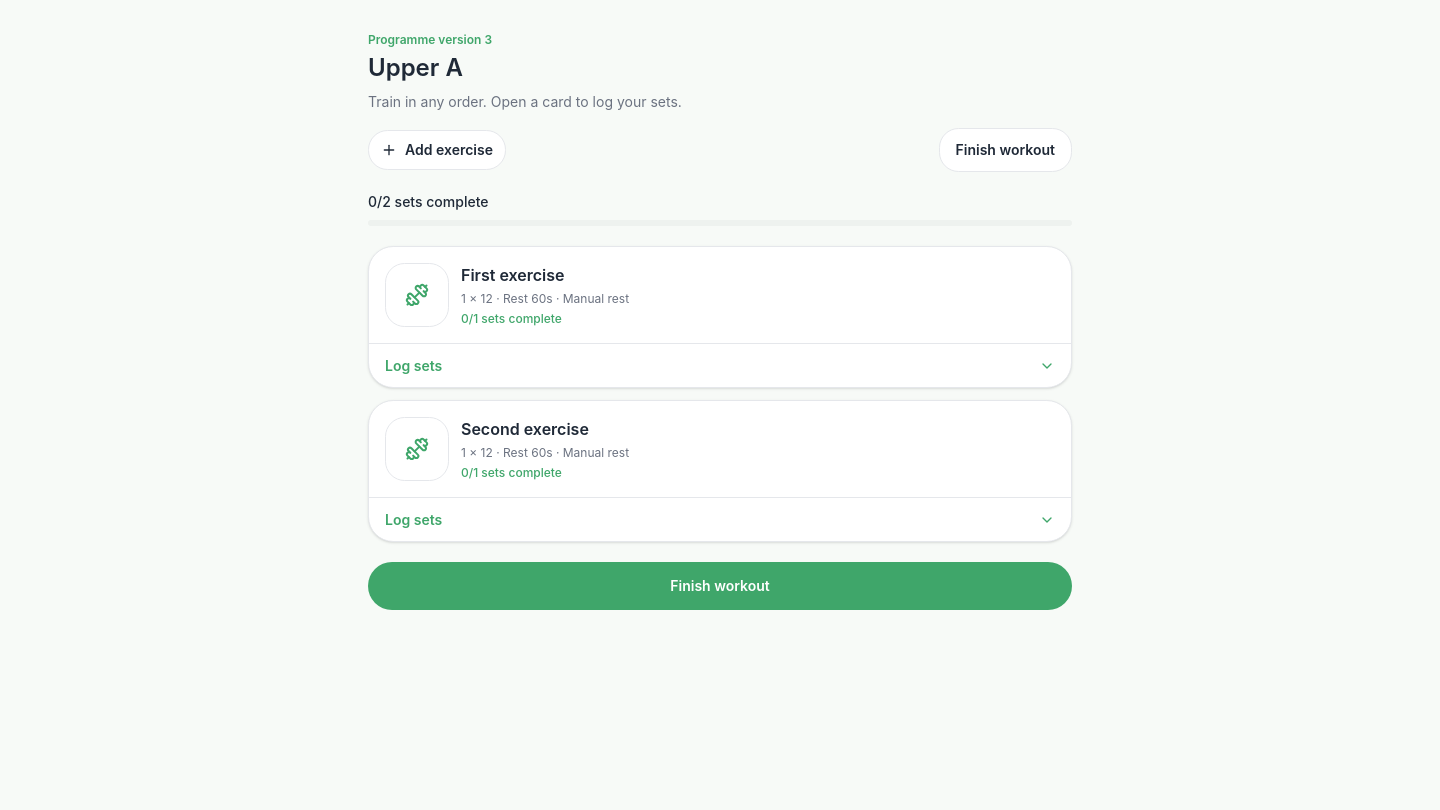
single-page workout › adds an extra exercise without leaving the list and keeps finish available
What coordinates should you click on to do the following:
click the button "Add exercise"
I would click on:
 (437, 150)
Its box is x1=368 y1=130 x2=506 y2=170.
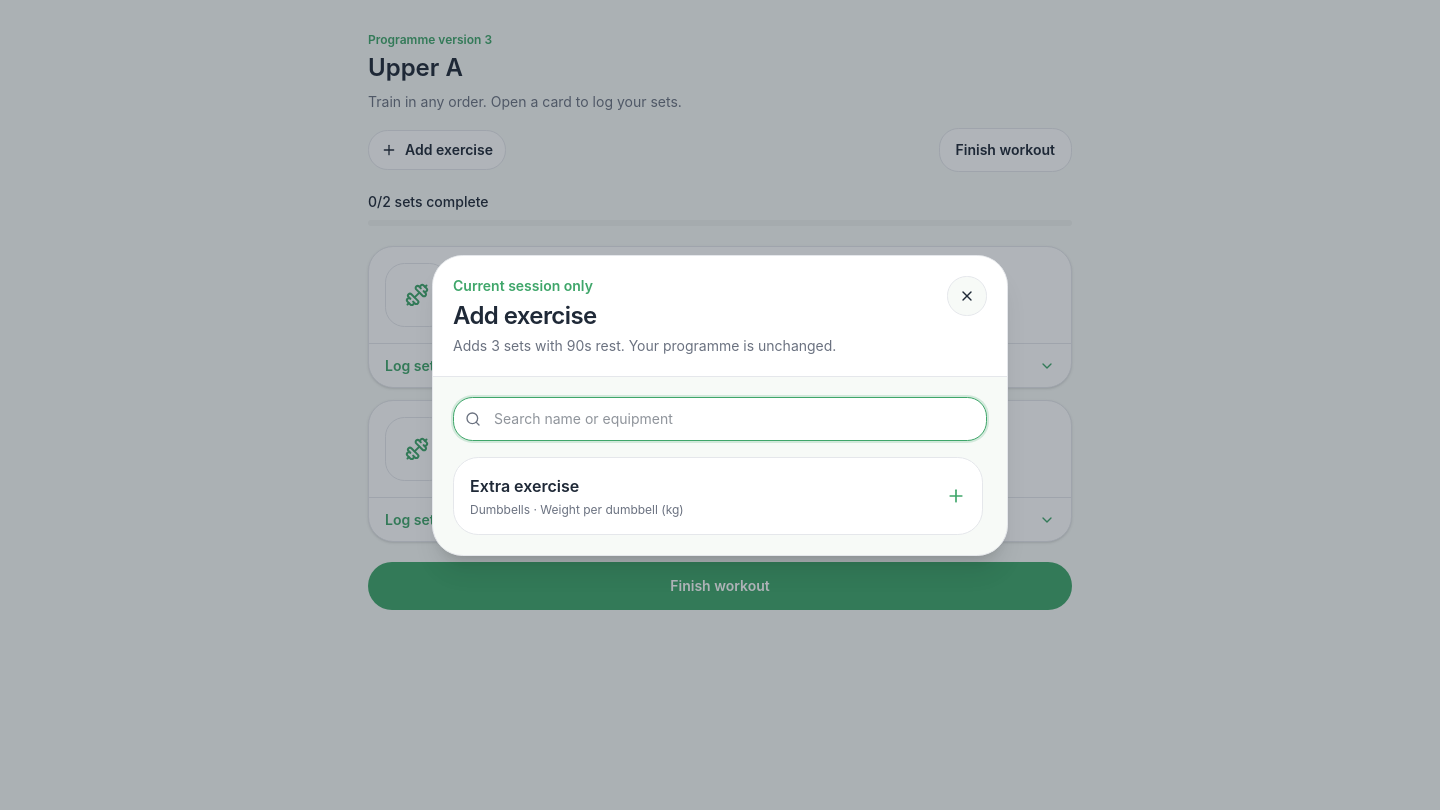
What coordinates should you click on to do the following:
click the button "Extra exercise Dumbbells · Weight per dumbbell (kg)"
I would click on:
 (525, 486)
Its box is x1=453 y1=456 x2=983 y2=534.
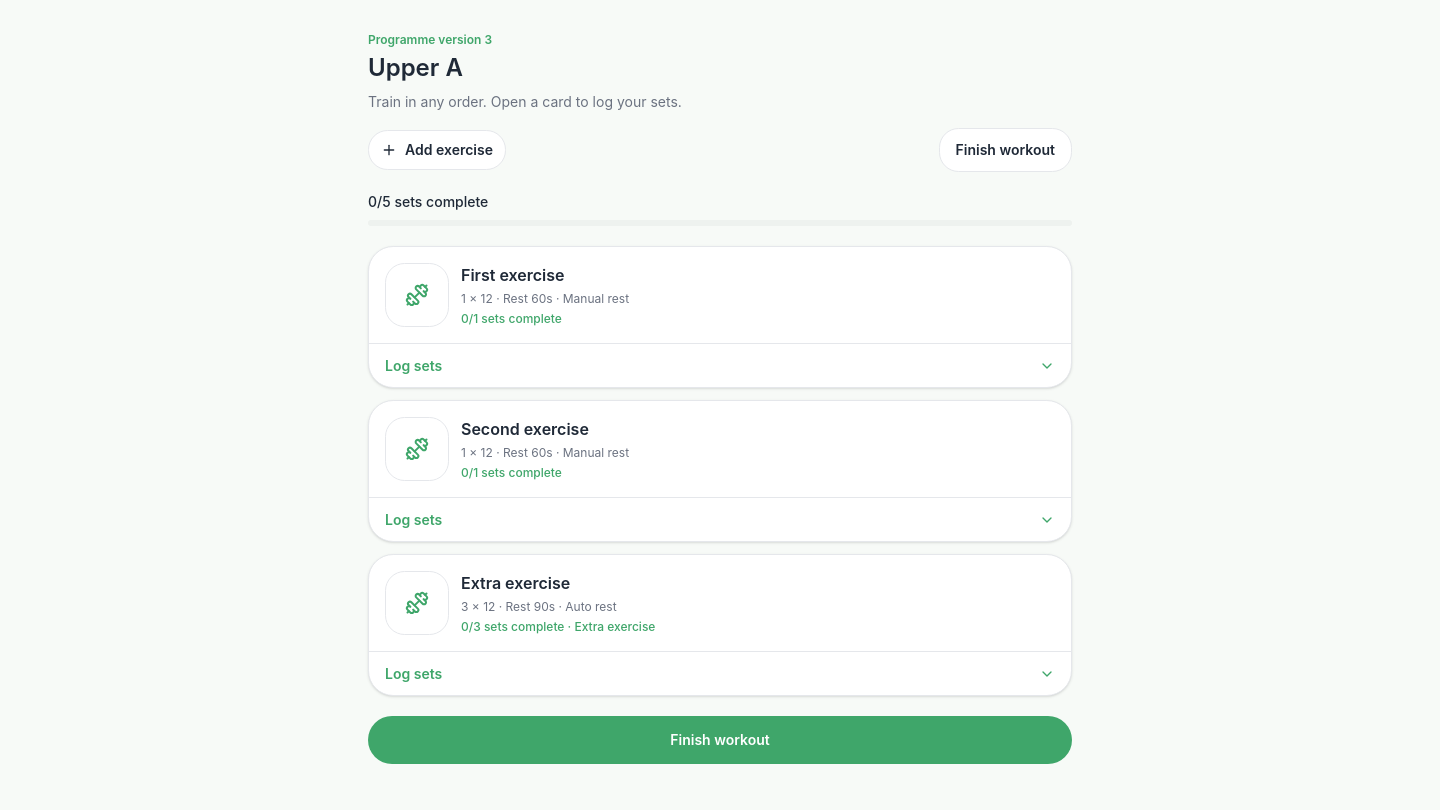
Result: the element "Extra exercise" is shown at x1=368 y1=554 x2=1072 y2=696
